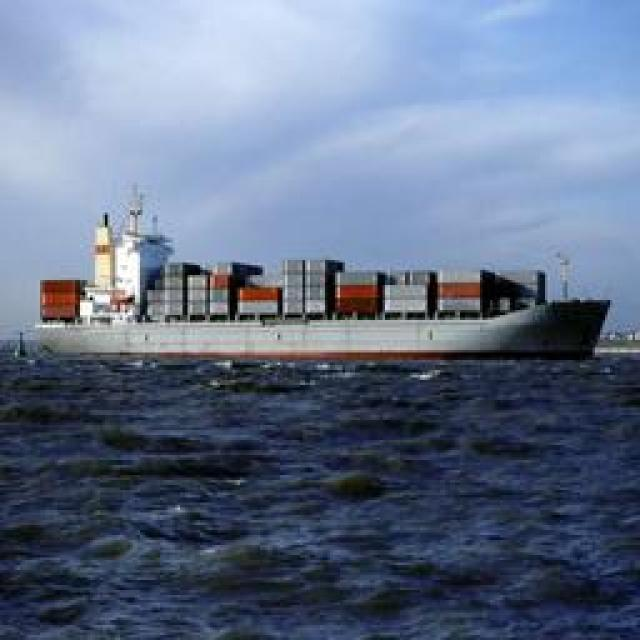ship2: (36, 182, 613, 366)
